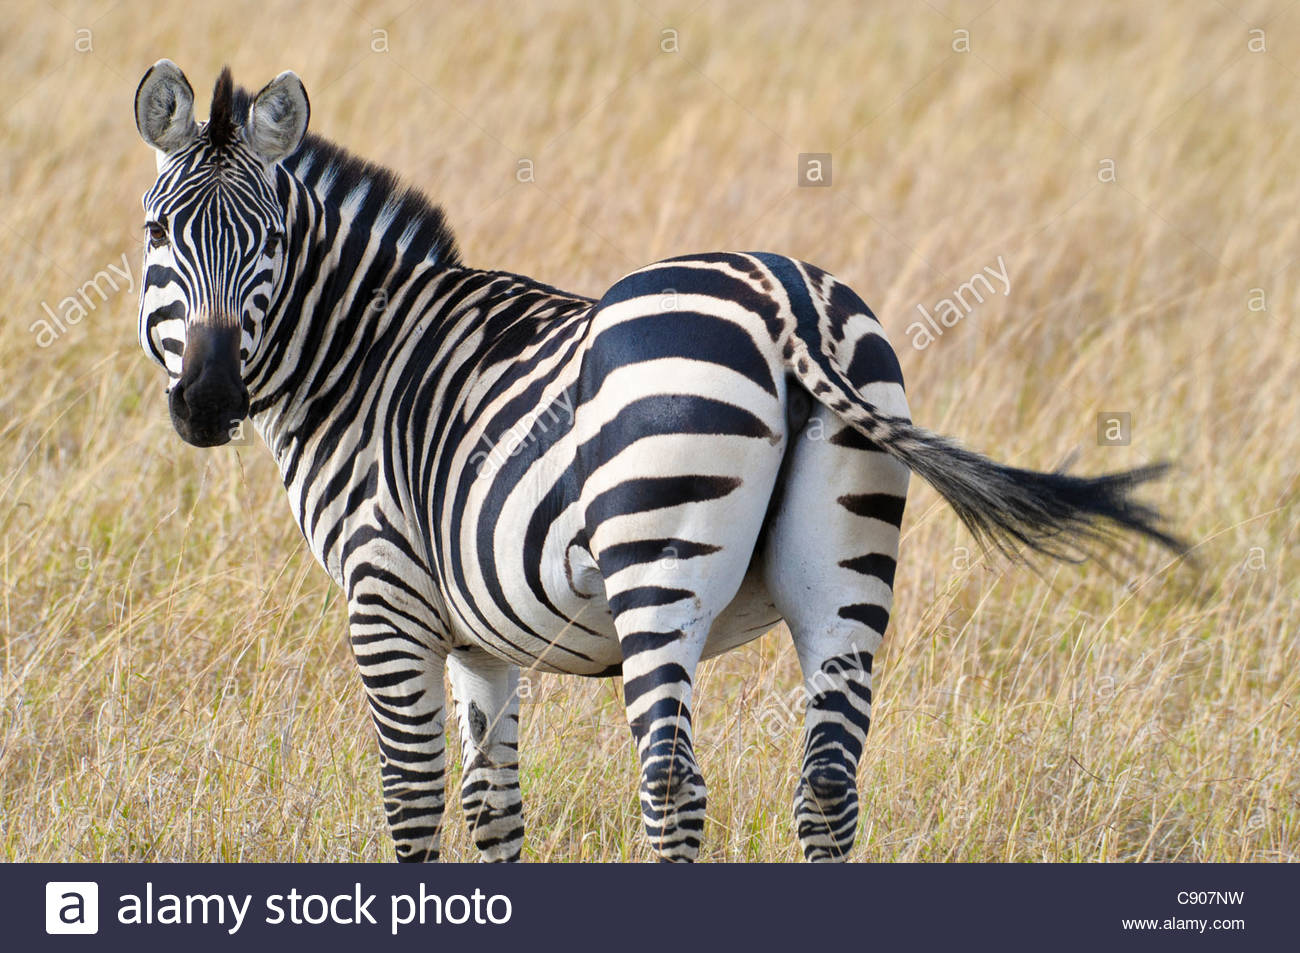zebra: (129, 54, 916, 860)
